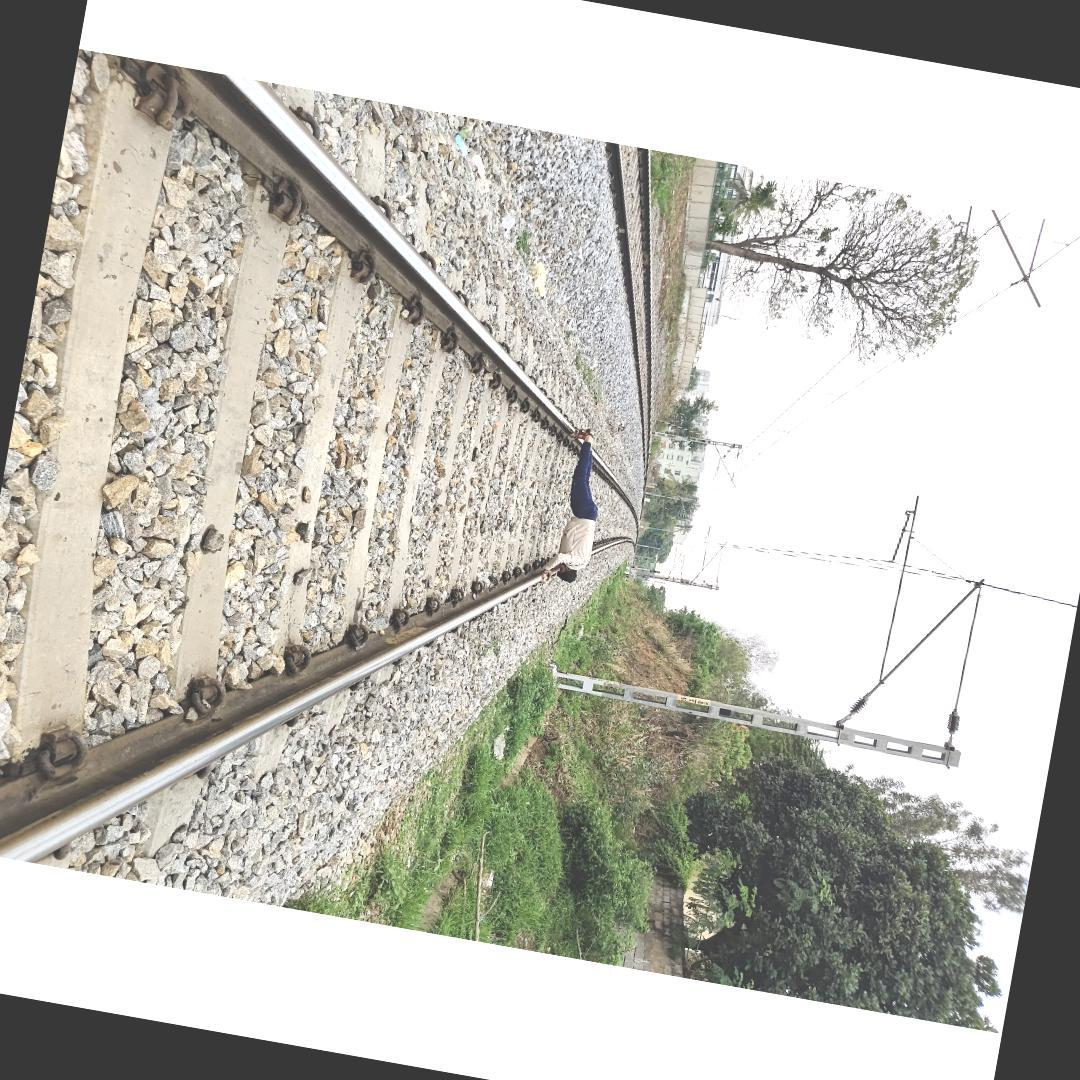sleeping: (537, 424, 616, 590)
track: (0, 47, 651, 855)
